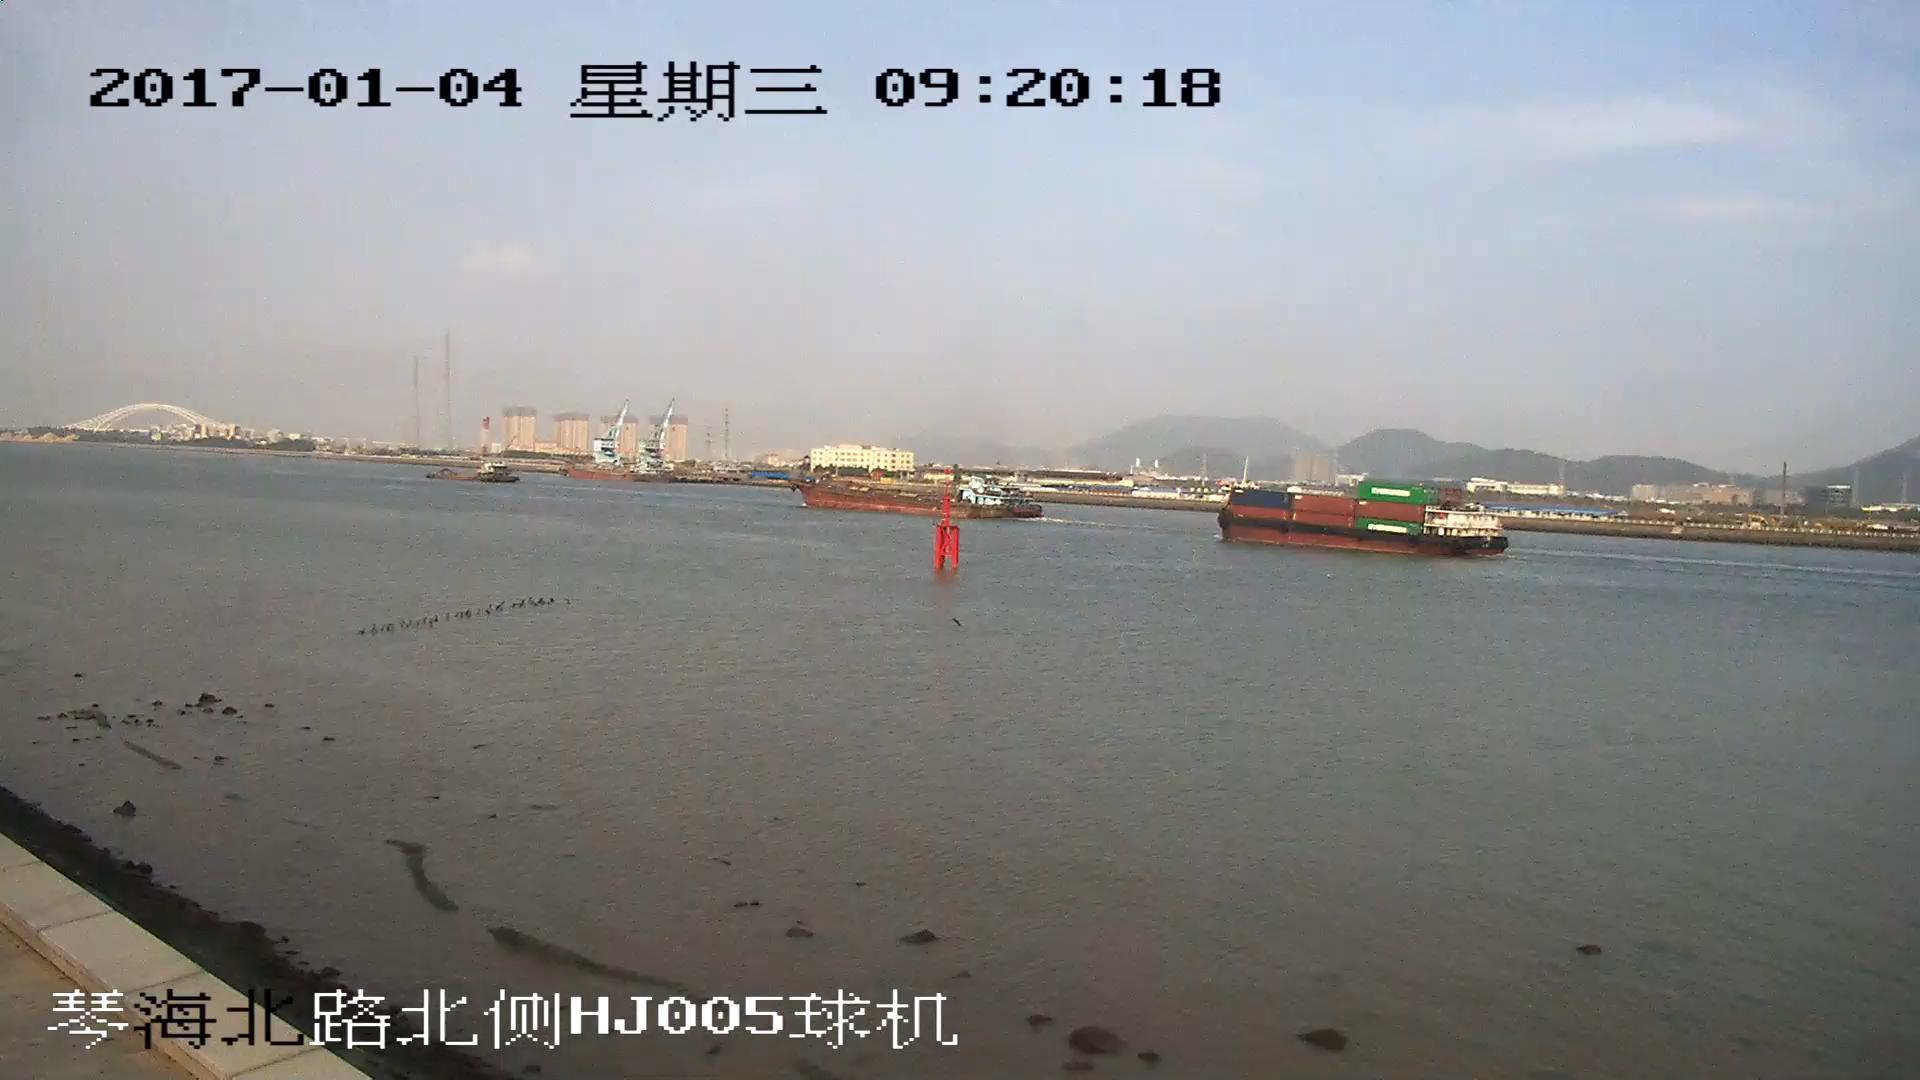Ship: (1224, 483, 1511, 562), (781, 467, 1043, 522)
